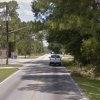Tree: (26, 0, 100, 51)
